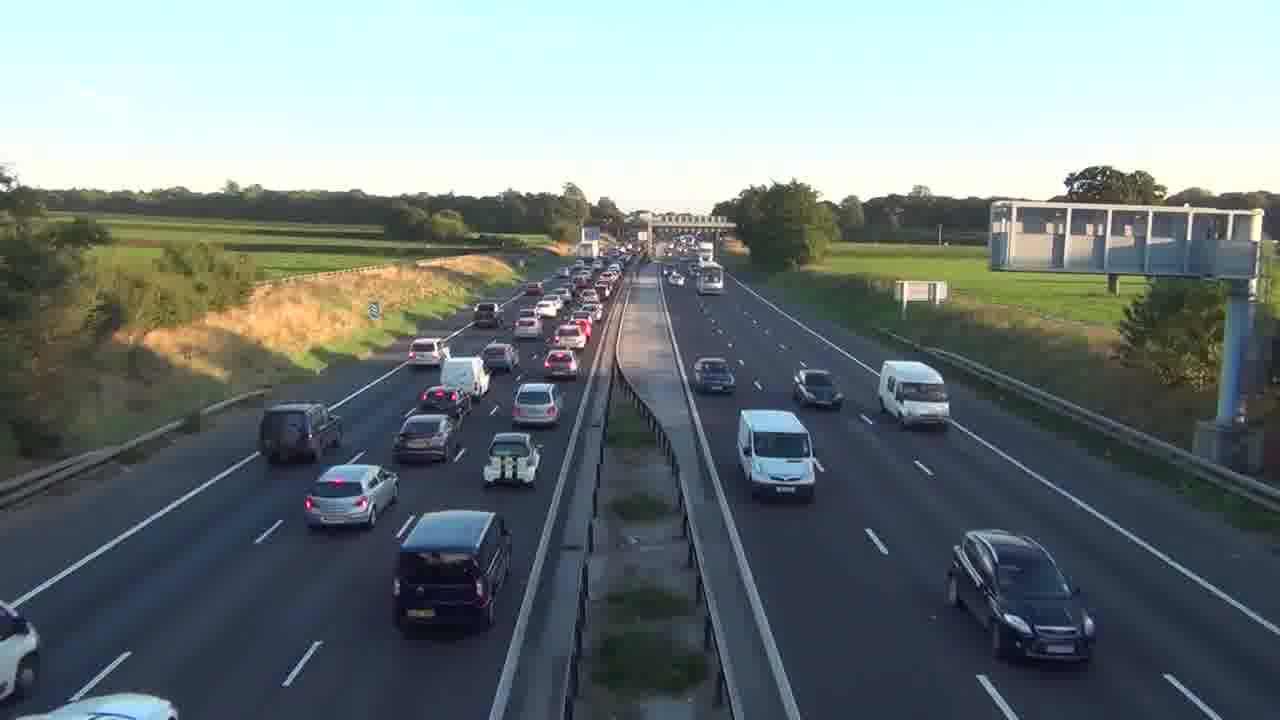bus: (258, 401, 342, 464), (877, 359, 951, 429)
car: (945, 528, 1097, 666), (391, 508, 514, 636), (303, 462, 400, 529), (10, 691, 179, 720), (0, 599, 42, 704), (480, 431, 541, 488), (392, 410, 454, 465), (511, 382, 562, 431), (792, 365, 845, 409), (692, 356, 737, 394), (542, 349, 579, 381)
truck: (391, 508, 514, 636), (735, 408, 824, 503), (877, 359, 951, 429)
